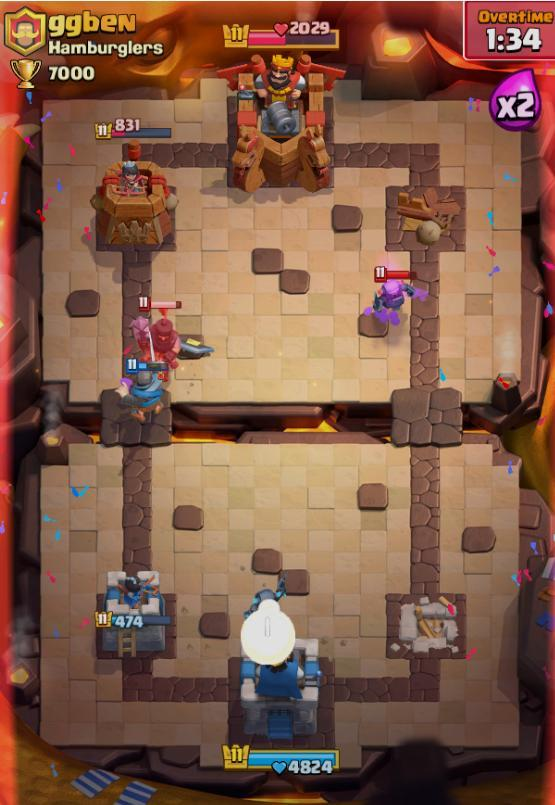EDarkPrince: (128, 299, 188, 362)
EKingTower: (230, 67, 337, 185)
EMiniPeka: (367, 266, 419, 311)
EnemyPrincessTower: (100, 162, 177, 246)
OKnight: (119, 366, 172, 418)
OwnKingTower: (238, 651, 317, 739)
OwnPrincessTower: (98, 571, 170, 653)
TowerDown: (384, 589, 462, 658), (388, 185, 465, 249)
